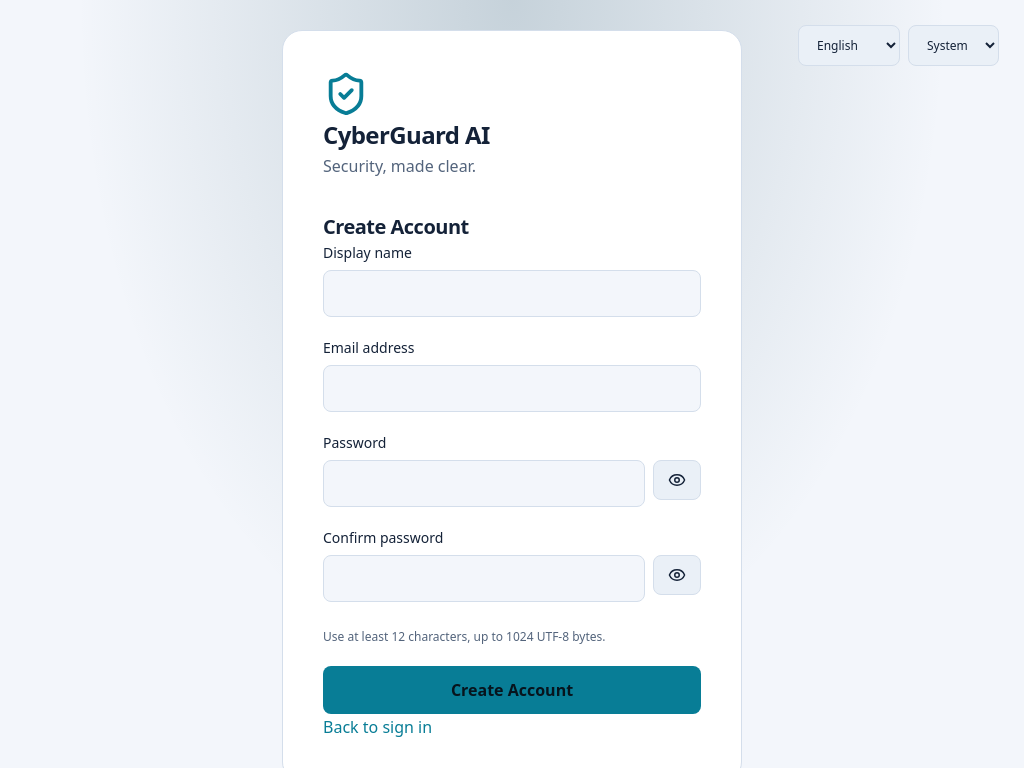
Scenario: website registration › handles RATE_LIMITED from backend
Type "New user" into the field labelled "Display name".
click(512, 294); type("New user")  # box [323, 270, 701, 317]
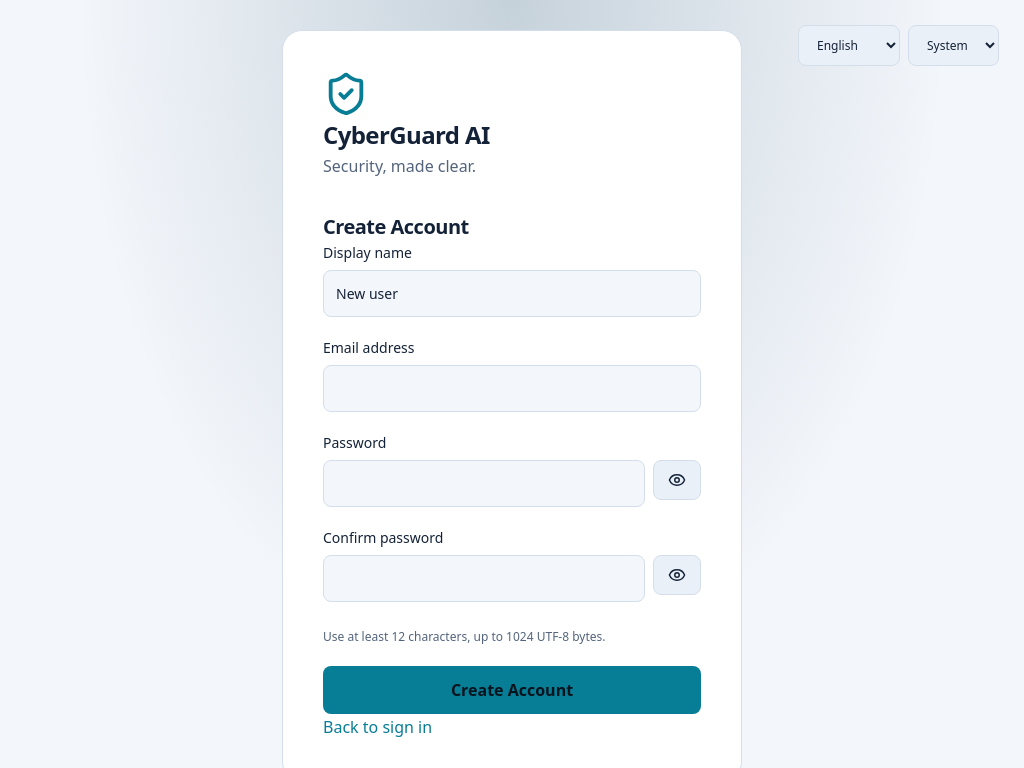
Type "new@example.com" into the field labelled "Email address".
click(512, 389); type("new@example.com")  # box [323, 365, 701, 412]
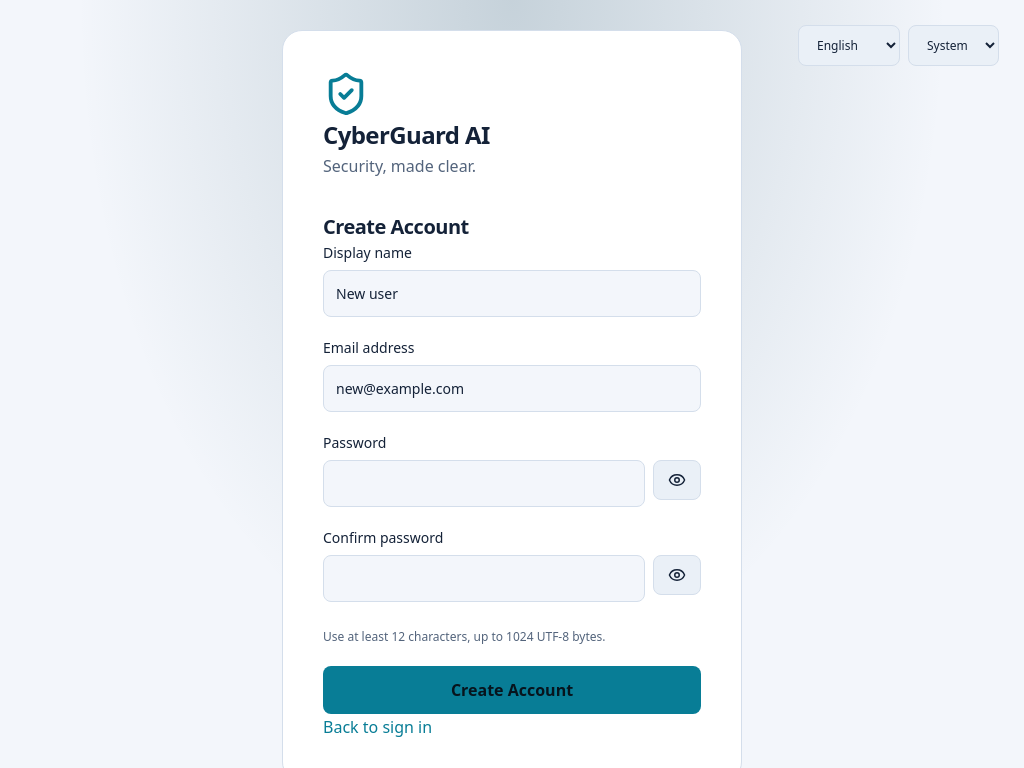
Type "a secure new passphrase" into the password field labelled "Password".
click(484, 484); type("a secure new passphrase")  # box [323, 460, 645, 507]
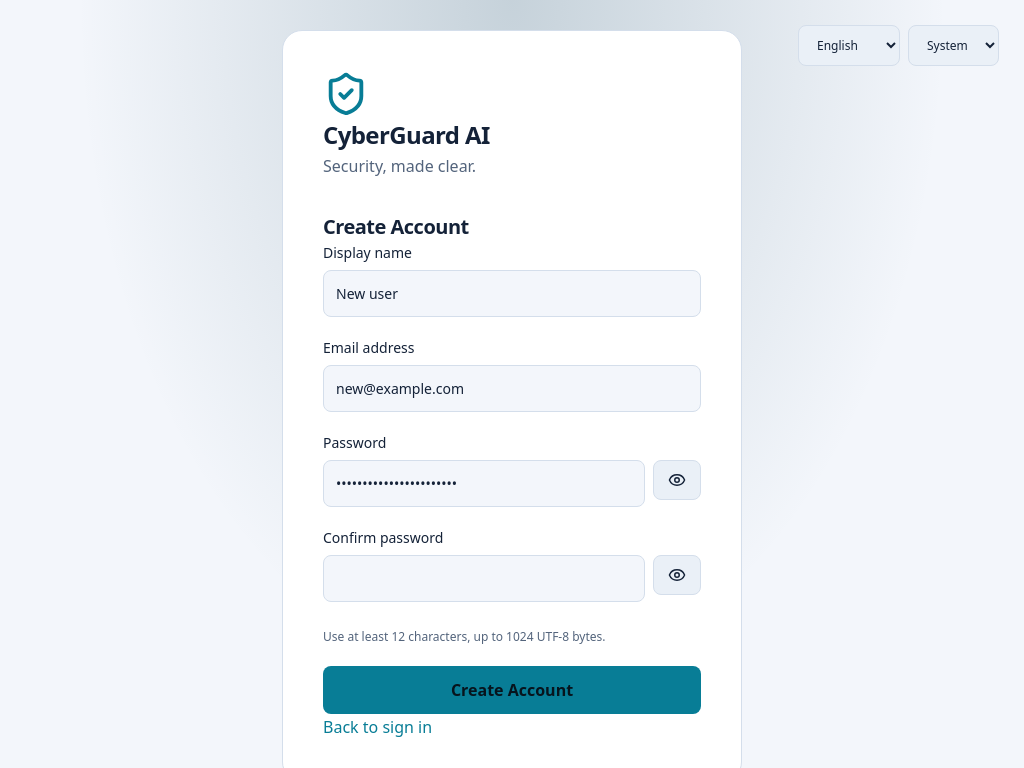
Type "a secure new passphrase" into the password field labelled "Confirm password".
click(484, 579); type("a secure new passphrase")  # box [323, 555, 645, 602]
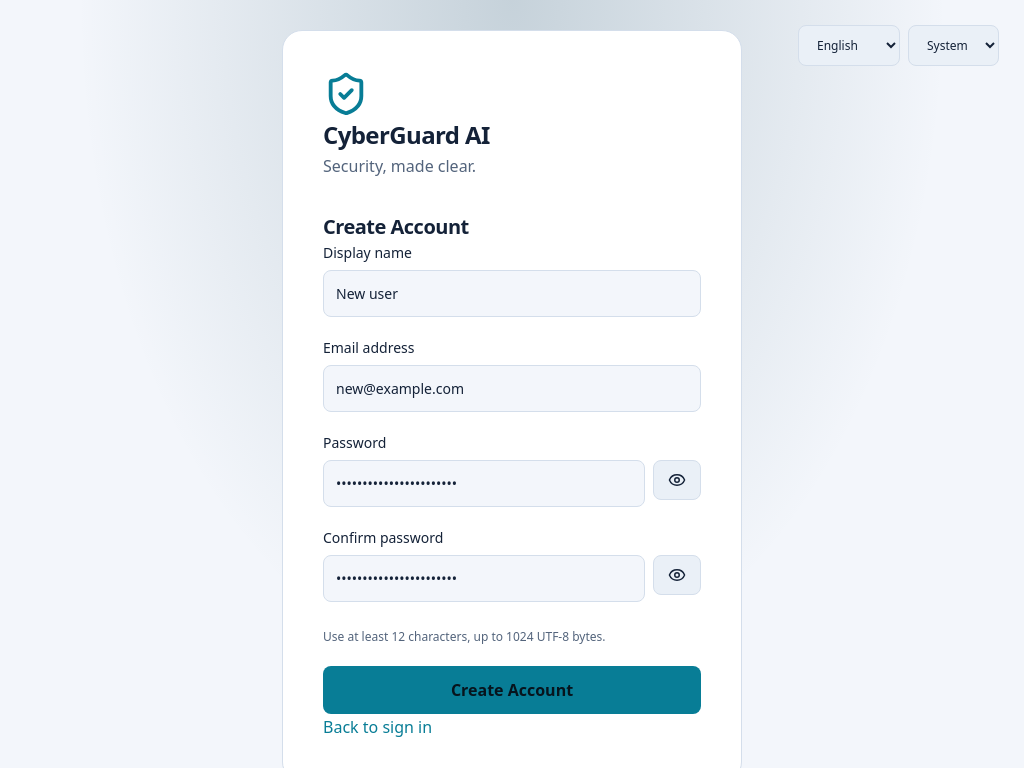
Click the button "Create Account".
click(512, 690)  # box [323, 666, 701, 714]
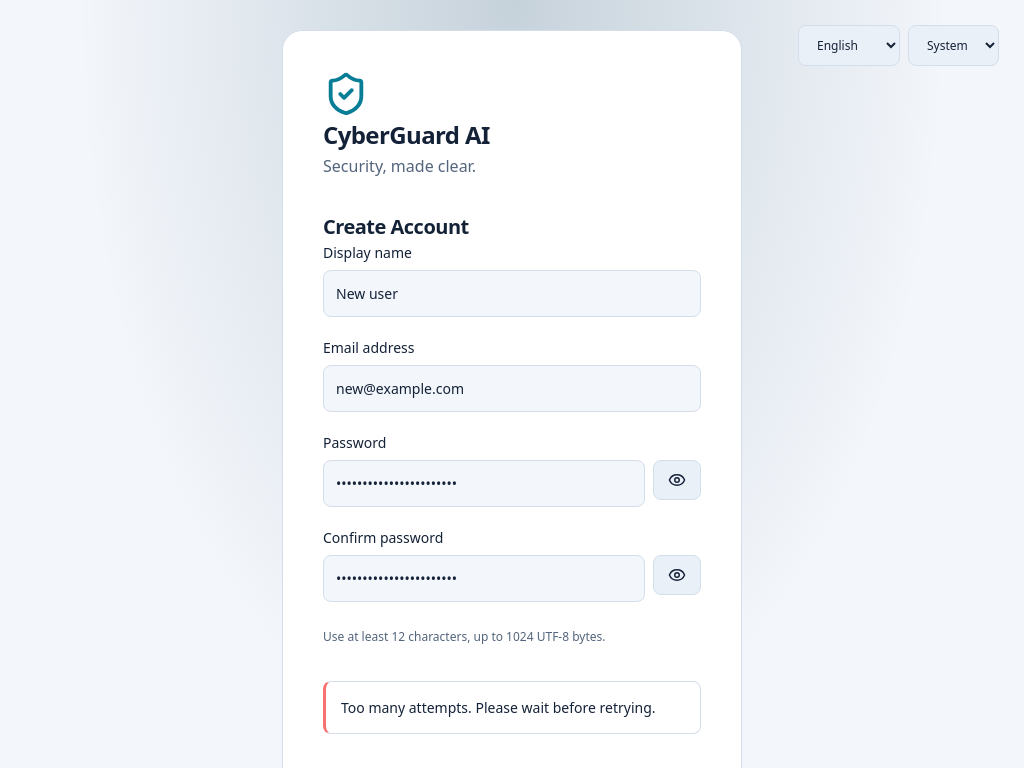
expect the text "Too many attempts. Please wait before retrying." is shown: met, box [323, 681, 701, 734]
